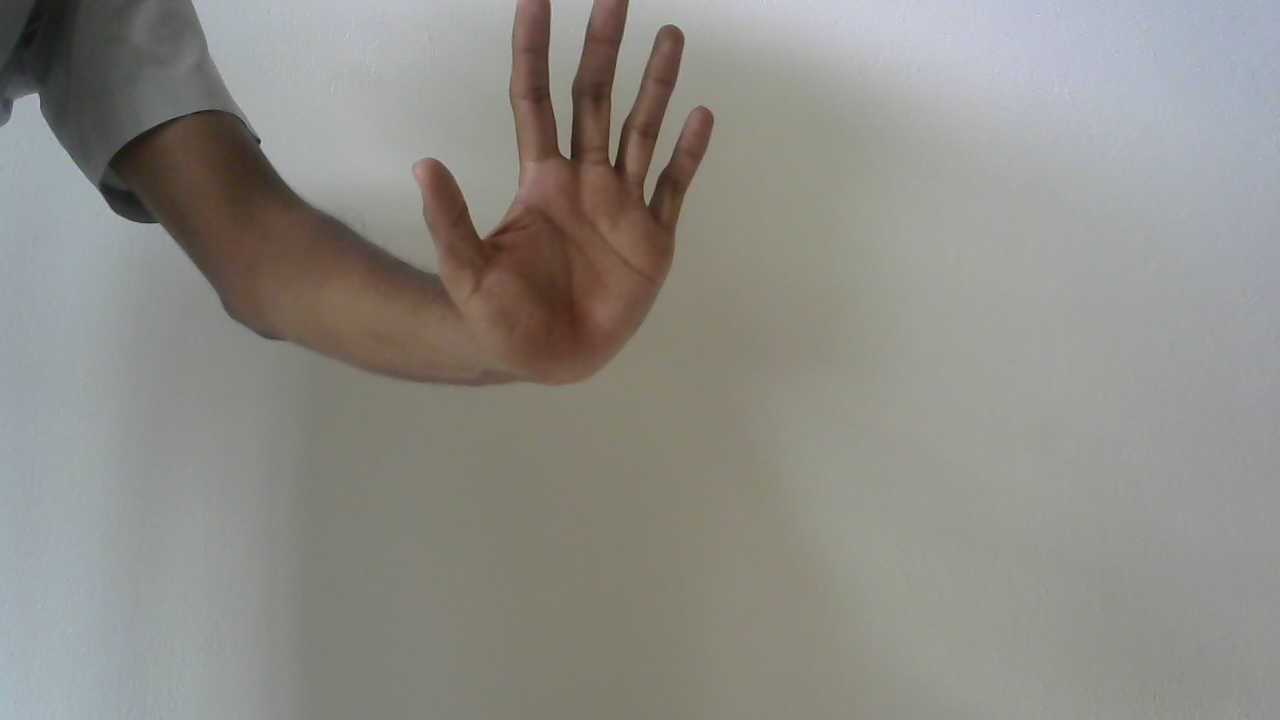hello: (397, 4, 727, 397)
